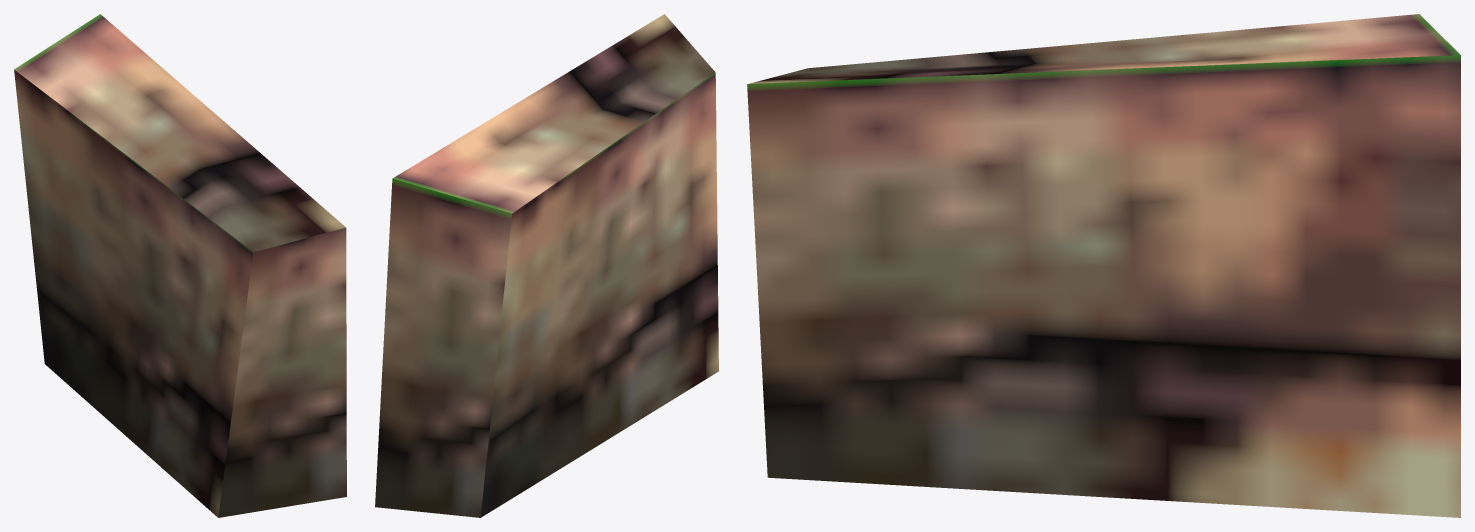
Rendered from USA - Base Infrastructure - Power Plant - Damage State 05 - ABPWRPLANT_d05.glb.
3 renders of one model, left to right at view 1: azimuth 30°, elevation 25°; view 2: azimuth 150°, elevation 25°; view 3: azimuth 270°, elevation 25°, orthographic. The views are drawn at different scales.
Visible parts, largest first — view 1: ABPWRPLANT_D05; view 2: ABPWRPLANT_D05; view 3: ABPWRPLANT_D05.
Part boxes in pixels (x1,y1,x2,y2): ABPWRPLANT_D05: (14,14,346,517); ABPWRPLANT_D05: (375,14,718,517); ABPWRPLANT_D05: (747,14,1460,517).
Size of the model in its own units: 2.54 by 6.64 by 9.52.
1 material, 1 textured.
